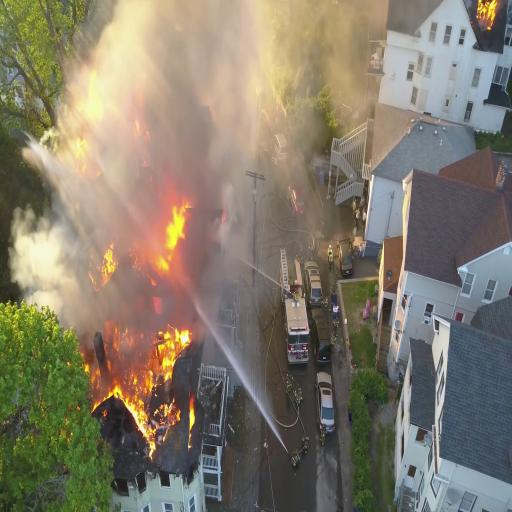fire: (113, 374, 154, 446), (156, 319, 193, 371), (161, 196, 188, 248)
smoke: (146, 72, 208, 196)
